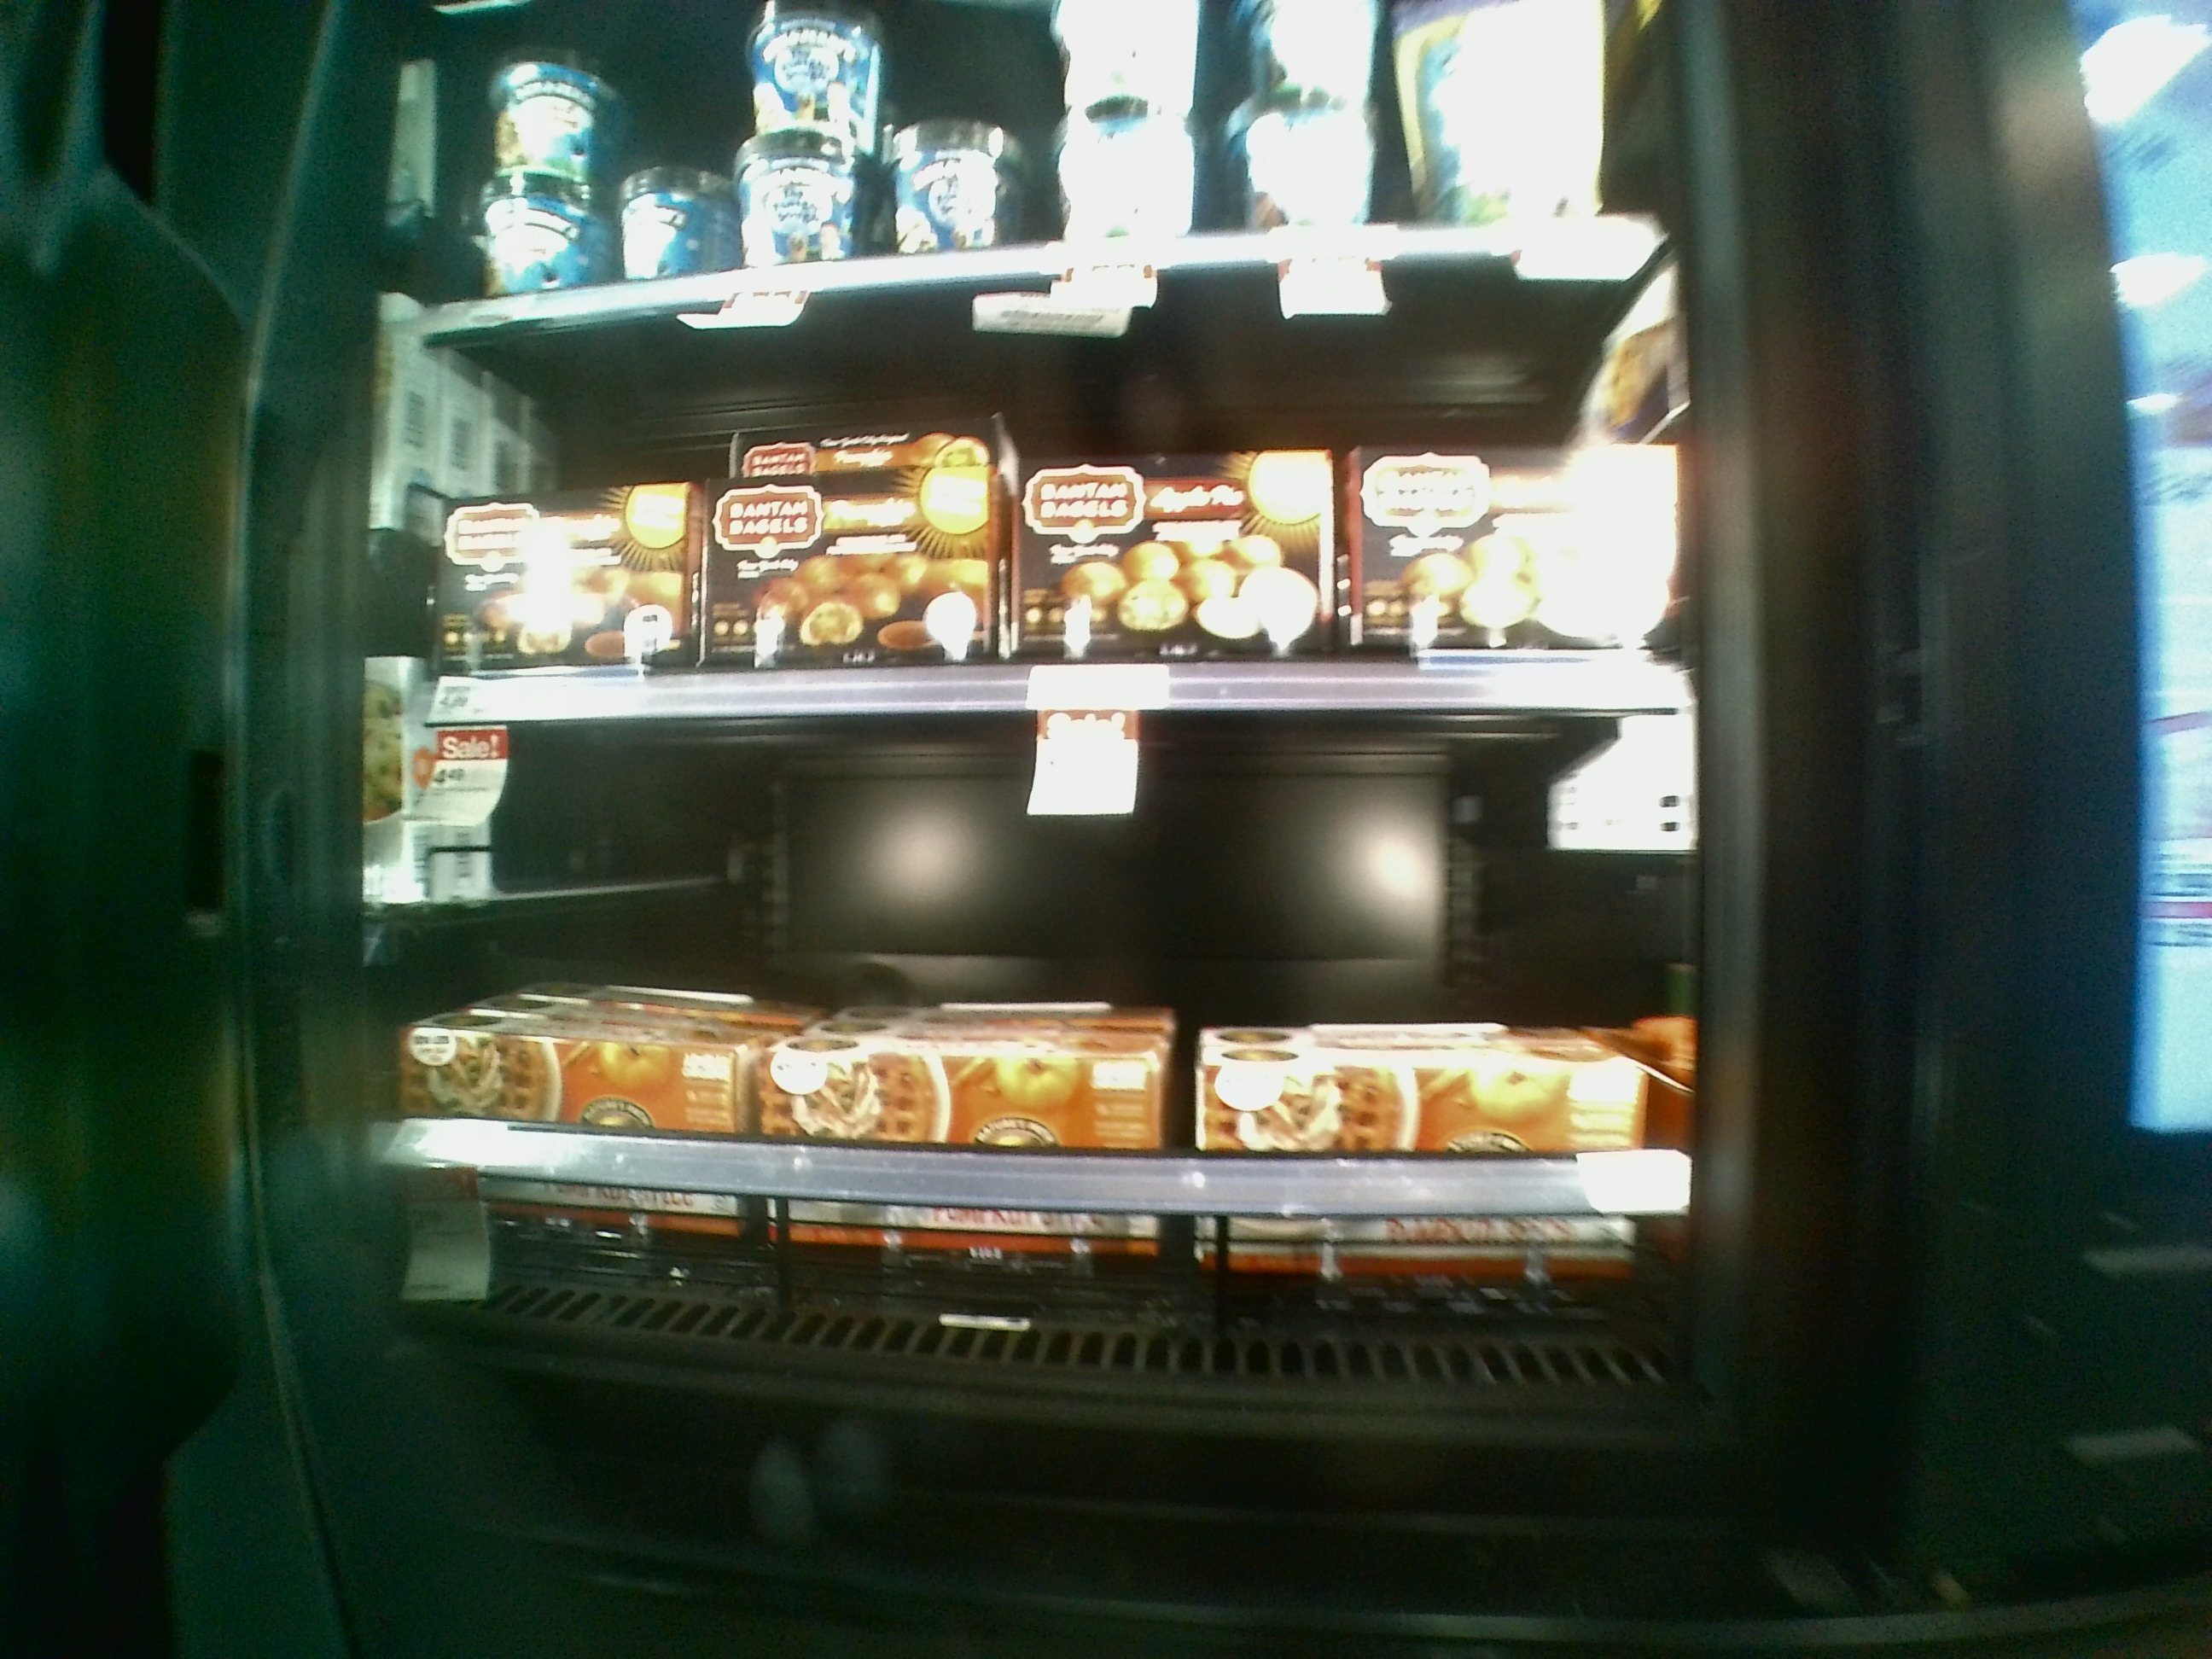shelf: (427, 711, 1683, 1412), (427, 331, 1669, 713)
